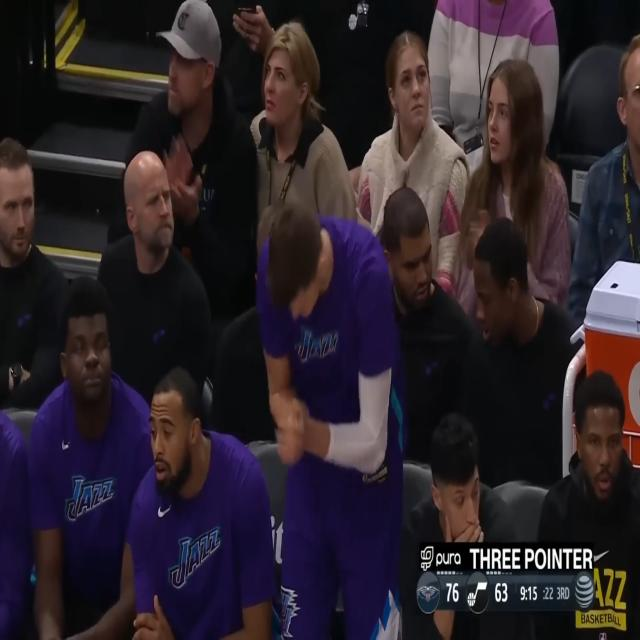Period: (556, 583, 570, 603)
Shot Clock: (543, 585, 554, 603)
Team Points: (445, 579, 460, 606), (496, 580, 508, 605)
Time Remaining: (518, 580, 540, 604)
